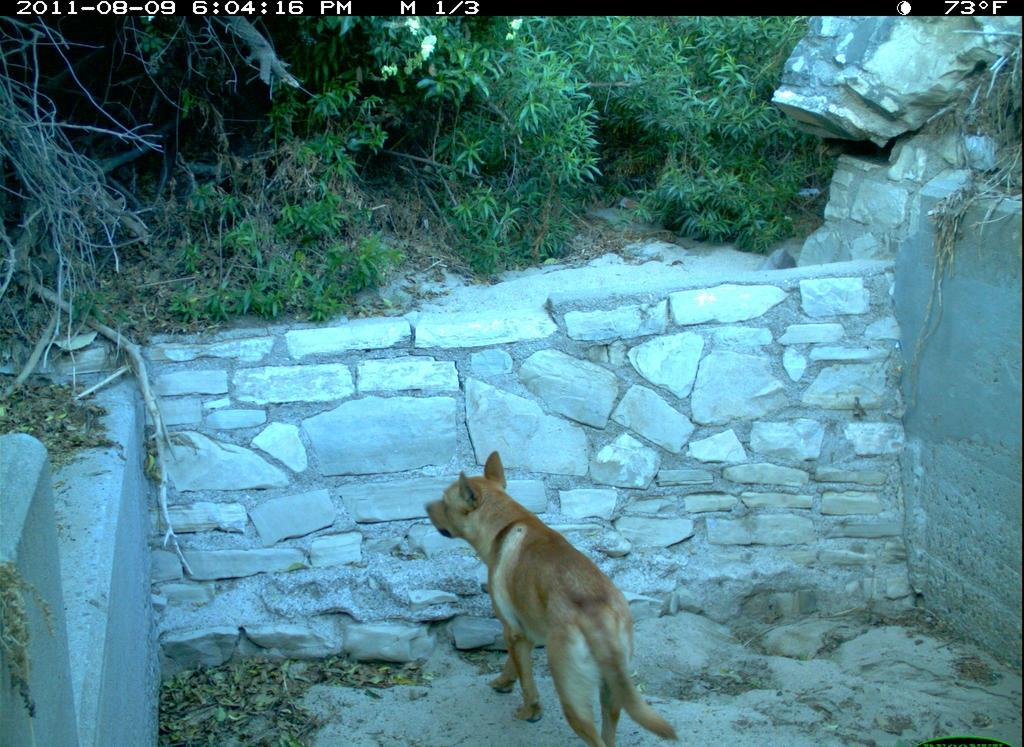dog: (423, 446, 683, 747)
